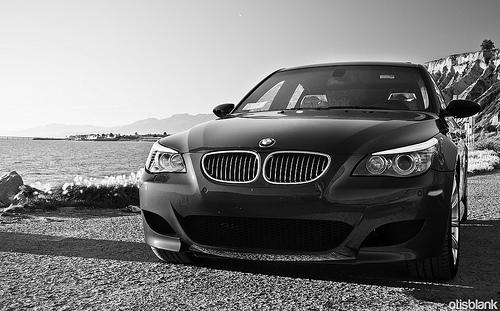car: (140, 61, 482, 283)
